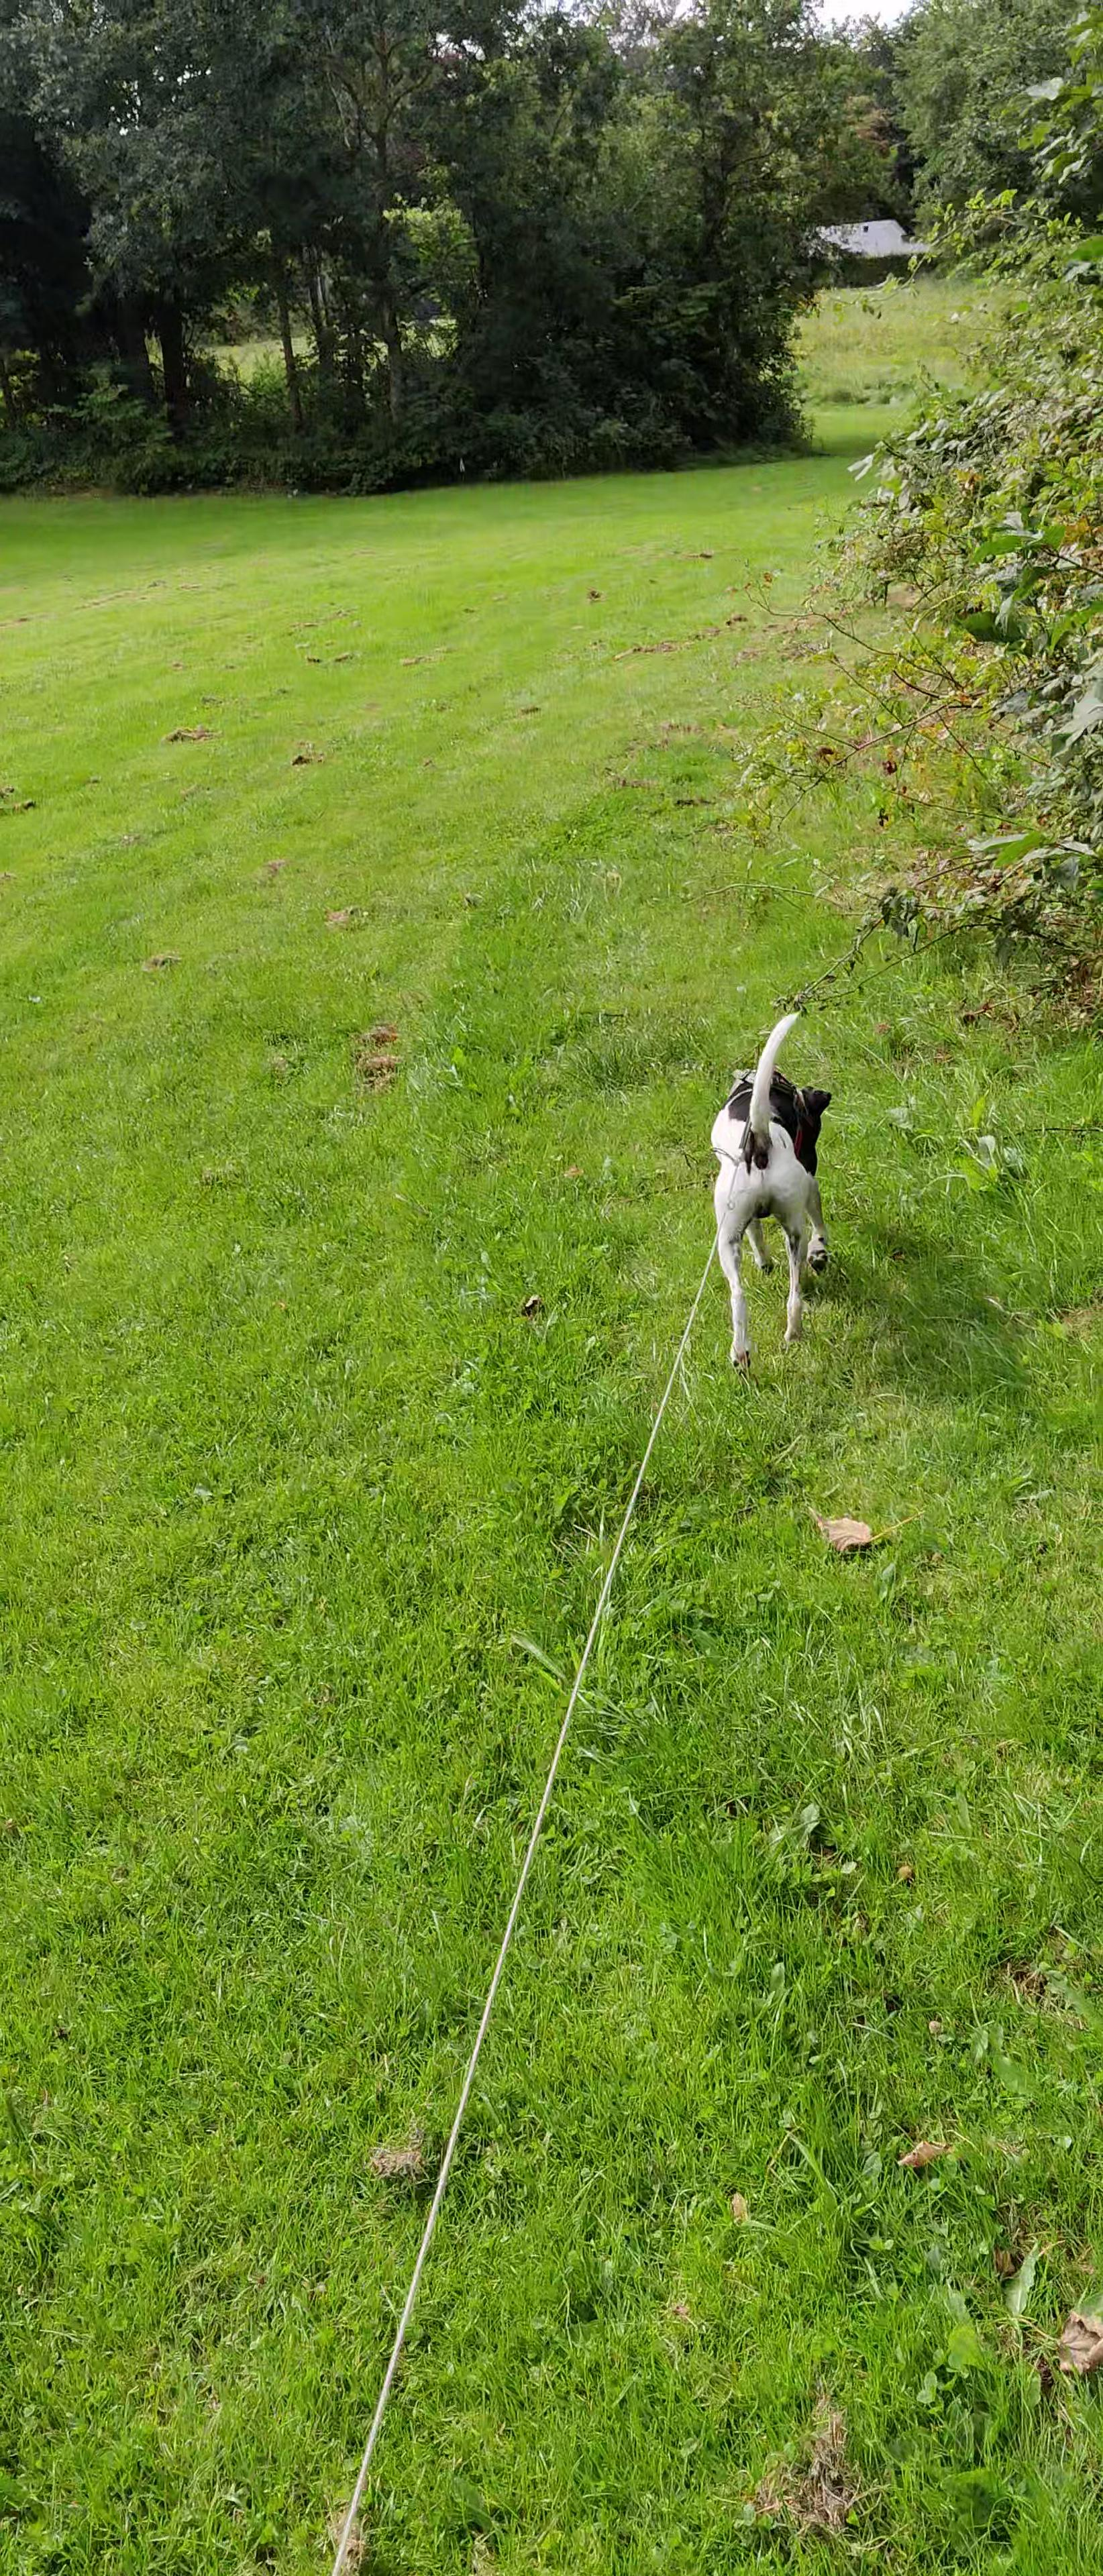Dog: (699, 1002, 835, 1378)
